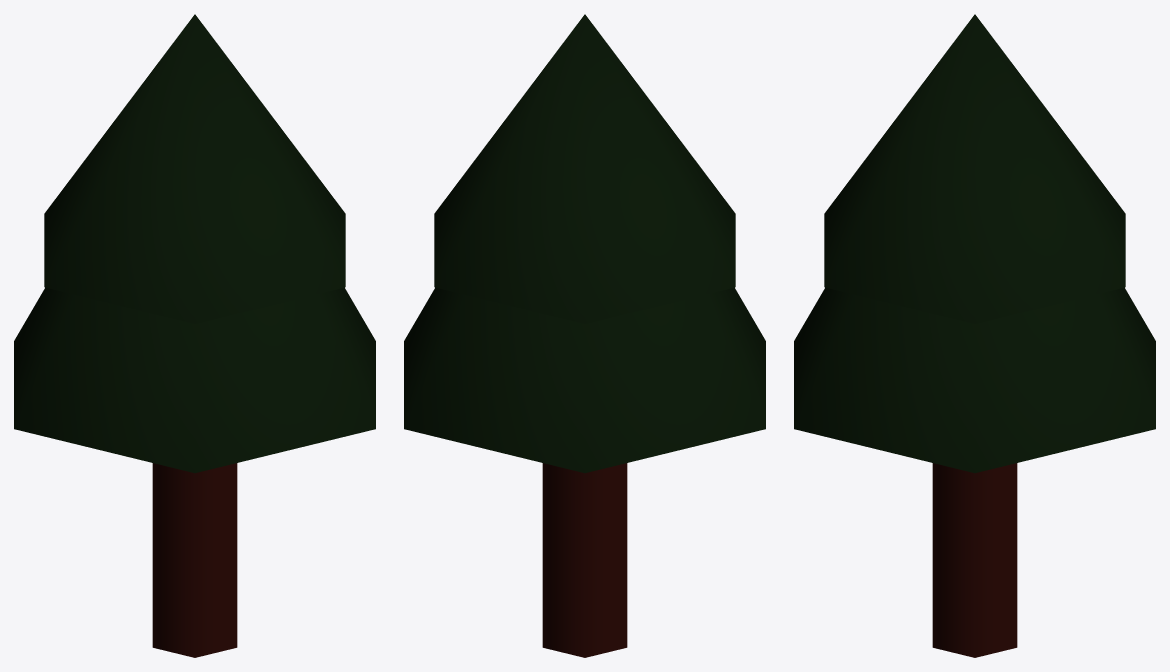
3 renders of one model, left to right at view 1: azimuth 30°, elevation 25°; view 2: azimuth 150°, elevation 25°; view 3: azimuth 270°, elevation 25°, orthographic.
Visible parts, largest first — view 1: Cylinder001; view 2: Cylinder001; view 3: Cylinder001.
Boxes of the visible parts, box(x1,y1,x2,y2) form: Cylinder001: box(14, 14, 375, 657); Cylinder001: box(404, 14, 765, 657); Cylinder001: box(794, 14, 1155, 657).
Size of the model in its own units: 60 by 98.82 by 51.96.
